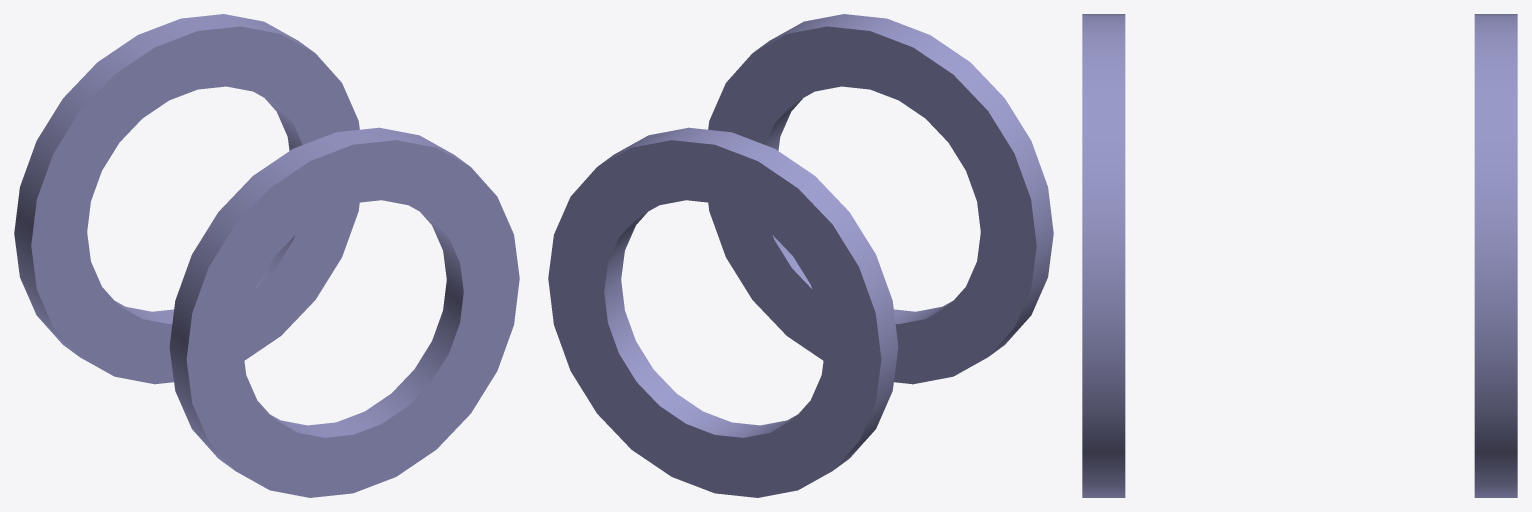
The model's file is PDCUpFlexBPipeFlange.gltf.
3 views of the same model, side by side, from view 1: azimuth 30°, elevation 25°; view 2: azimuth 150°, elevation 25°; view 3: azimuth 270°, elevation 25° (orthographic). The views are drawn at different scales.
Parts seen in each view (by area): view 1: logicPDCUpFlexBPipeFlange_pv0x2240708, logicPDCUpFlexBPipeFlange_pv0x22406d0; view 2: logicPDCUpFlexBPipeFlange_pv0x22406d0, logicPDCUpFlexBPipeFlange_pv0x2240708; view 3: logicPDCUpFlexBPipeFlange_pv0x22406d0, logicPDCUpFlexBPipeFlange_pv0x2240708.
Boxes of the visible parts, x1,y1,x2,y2 form: logicPDCUpFlexBPipeFlange_pv0x2240708: (169,127,519,497); logicPDCUpFlexBPipeFlange_pv0x22406d0: (14,14,359,384); logicPDCUpFlexBPipeFlange_pv0x22406d0: (548,127,898,497); logicPDCUpFlexBPipeFlange_pv0x2240708: (708,14,1053,384); logicPDCUpFlexBPipeFlange_pv0x22406d0: (1474,14,1517,497); logicPDCUpFlexBPipeFlange_pv0x2240708: (1082,14,1125,497).
Size of the model in its own units: 30.48 by 30.48 by 27.3.
